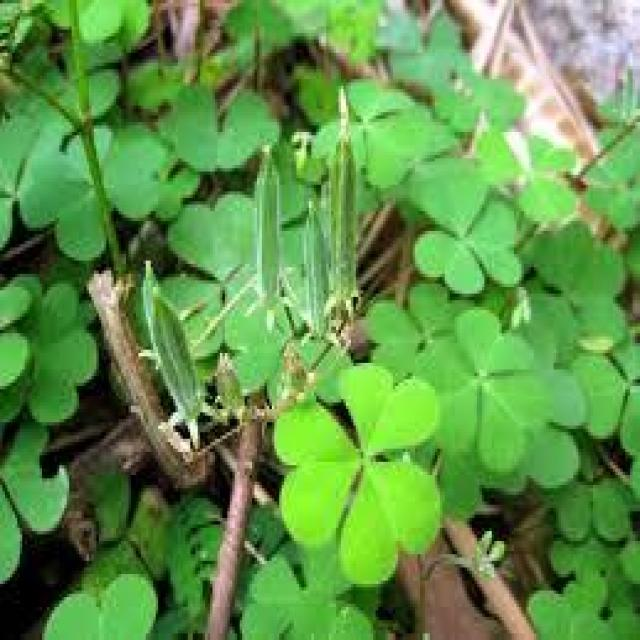organic waste: (64, 116, 400, 468)
